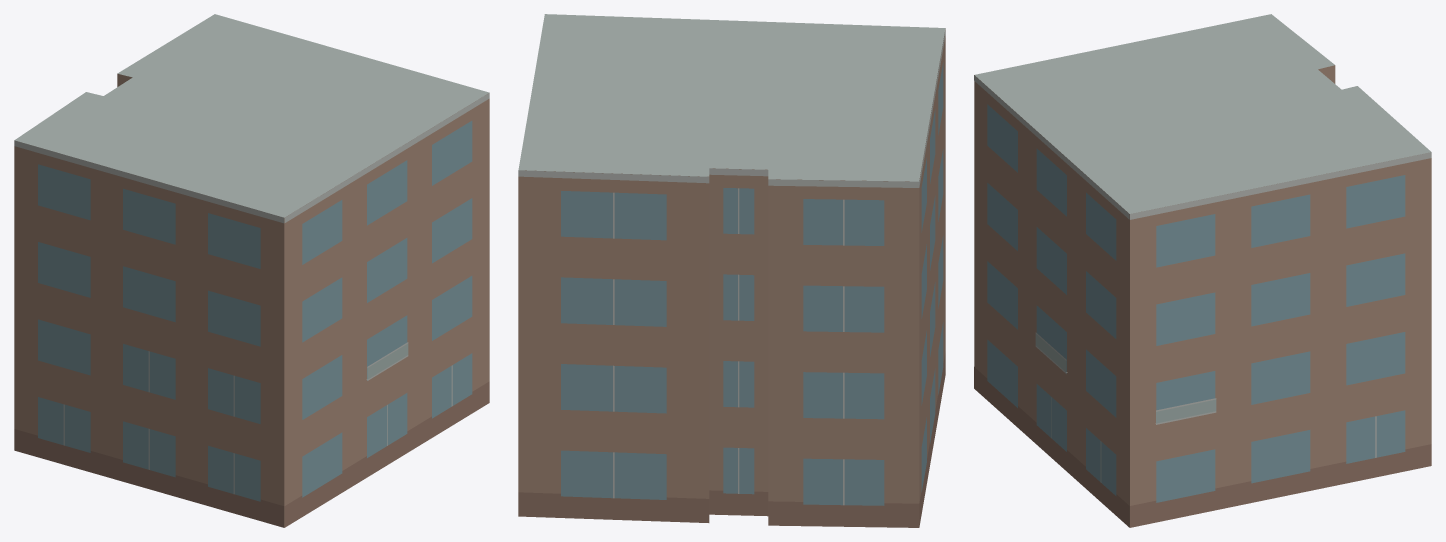
Rendered from survey-upis-32725055.glb.
3 views of the same model, side by side, from view 1: azimuth 30°, elevation 25°; view 2: azimuth 150°, elevation 25°; view 3: azimuth 270°, elevation 25° (orthographic). The views are drawn at different scales.
Visible parts, largest first — view 1: survey-upis-32725055.tmp; view 2: survey-upis-32725055.tmp; view 3: survey-upis-32725055.tmp.
Part boxes in pixels (<box>): survey-upis-32725055.tmp: <box>14,14,489,527</box>; survey-upis-32725055.tmp: <box>518,14,945,527</box>; survey-upis-32725055.tmp: <box>974,14,1431,527</box>.
Bounding box in the file's own units: 17.86 × 13.05 × 17.25.
